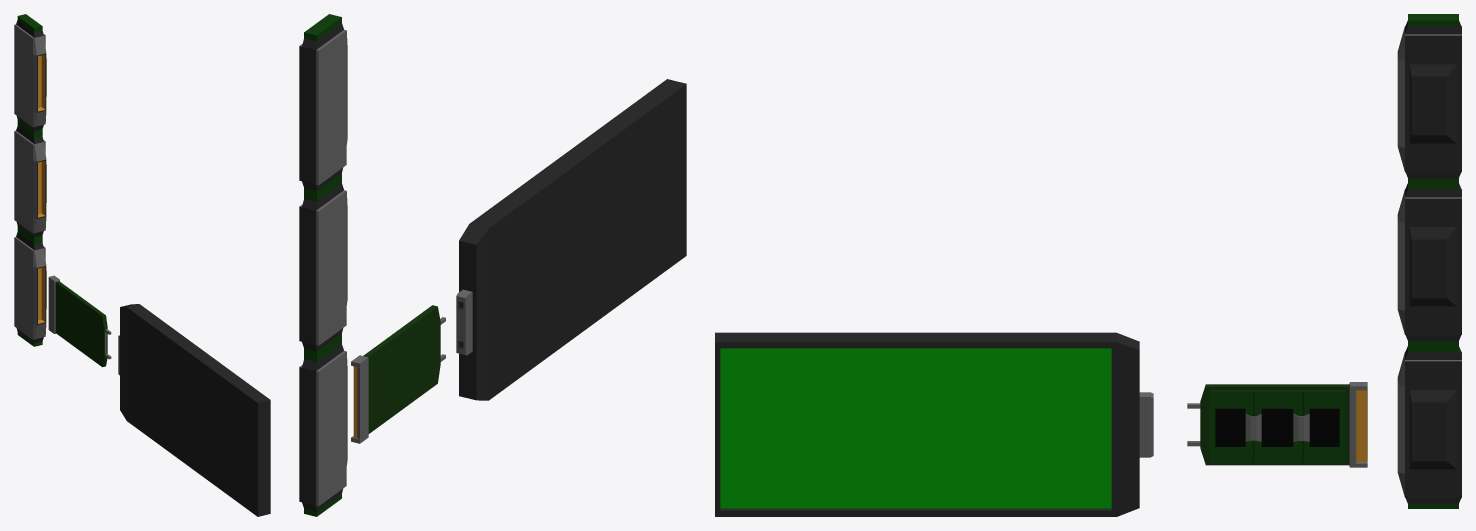
The model's file is Base levelselect.fbx.
3 renders of one model, left to right at view 1: azimuth 30°, elevation 25°; view 2: azimuth 150°, elevation 25°; view 3: azimuth 270°, elevation 25°, orthographic. The views are drawn at different scales.
Parts seen in each view (by area): view 1: Cube.002, Cube, Cube.001; view 2: Cube.002, Cube, Cube.001; view 3: Cube.002, Cube, Cube.001.
Part boxes in pixels (box(x1,y1,x2,y2)): Cube.002: box(118, 304, 270, 516); Cube: box(14, 14, 46, 346); Cube.001: box(48, 275, 111, 367); Cube.002: box(456, 79, 686, 400); Cube: box(299, 14, 347, 516); Cube.001: box(351, 305, 445, 443); Cube.002: box(715, 332, 1153, 516); Cube: box(1397, 14, 1461, 508); Cube.001: box(1187, 382, 1367, 467).
Size of the model in its own units: 246 by 4795 by 6557.
